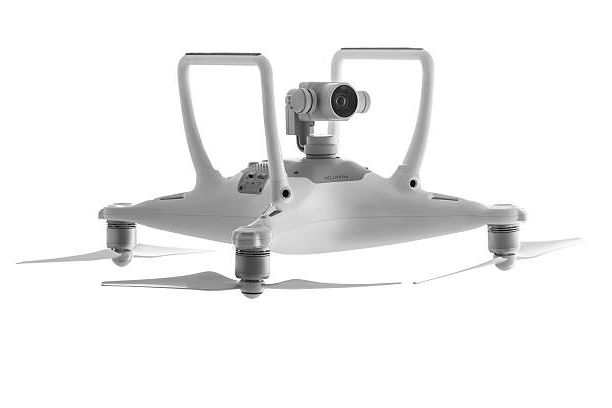Drone: (15, 38, 586, 303)
